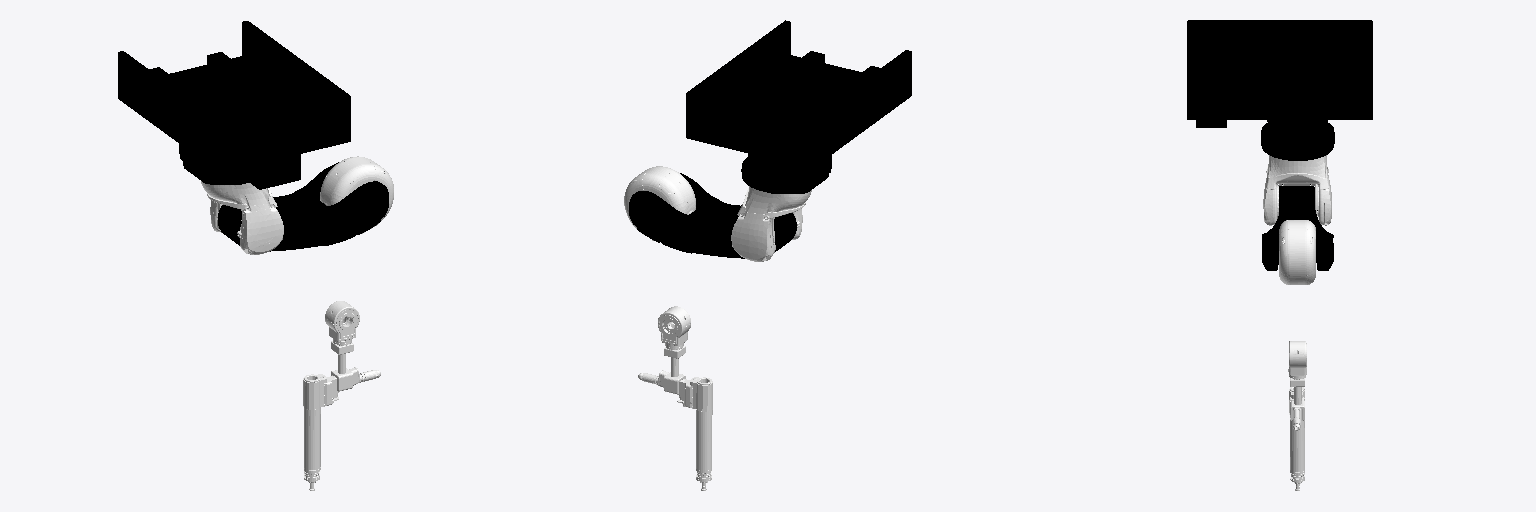
robot.urdf — racer:
<?xml version="1.0" encoding="utf-8"?>
<robot name="racer">
  <link name="world"/>
  <link name="base_link">
    <inertial>
      <origin rpy="0 0 0" xyz="-0.017279            0.00078009           0.14492"/>
      <mass value="6.215"/>
      <inertia ixx="0.05293" ixy="1.9878e-05" ixz="-0.0043586" iyy="0.060873" iyz="5.4713e-06" izz="0.042672"/>
    </inertial>
    <visual>
      <geometry>
        <mesh filename="package://racer_description/mesh/base_link.STL"/>
      </geometry>
      <material name="base_link_material">
        <color rgba="0 0 0 1"/>
      </material>
    </visual>
    <collision>
      <geometry>
        <mesh filename="package://racer_description/mesh/base_link.STL"/>
      </geometry>
    </collision>
  </link>
  <link name="link_1">
    <inertial>
      <origin rpy="0 0 0" xyz=" 0.0375246972830294 -0.0047330722058841   0.119959023209445"/>
      <mass value="5.46814182699"/>
      <inertia ixx="0.0559481276261" ixy="9.66643445884e-05" ixz="-0.00417556460737" iyy="0.0332098630782" iyz="1.37699311238e-05" izz="0.0442971694125"/>
    </inertial>
    <visual>
      <geometry>
        <mesh filename="package://racer_description/mesh/link_1.STL"/>
      </geometry>
      <material name="link_1_material">
        <color rgba="1 1 1 1"/>
      </material>
    </visual>
    <collision>
      <geometry>
        <mesh filename="package://racer_description/mesh/link_1.STL"/>
      </geometry>
    </collision>
  </link>
  <link name="link_2">
    <inertial>
      <origin rpy="0 0 0" xyz="-0.0190824069529527 -0.00775028525116991  0.199983435151925"/>
      <mass value="3.4970386262"/>
      <inertia ixx="0.0677992942709" ixy="0.000380936310688" ixz="-0.000855778184674" iyy="0.0676014641813" iyz="0.0016683422702" izz="0.0164275616509"/>
    </inertial>
    <visual>
      <geometry>
        <mesh filename="package://racer_description/mesh/link_2.STL"/>
      </geometry>
      <material name="link_2_material">
        <color rgba="0 0 0 1"/>
      </material>
    </visual>
    <collision>
      <geometry>
        <mesh filename="package://racer_description/mesh/link_2.STL"/>
      </geometry>
    </collision>
  </link>
  <link name="link_3">
    <inertial>
      <origin rpy="0 0 0" xyz="-0.0174695057689258 -0.00108883931260707 -0.00846478214002855"/>
      <mass value="2.68331708367"/>
      <inertia ixx="0.00685071381057" ixy="0.000112640516974" ixz="0.00186954281903" iyy="0.00785316794832" iyz="-0.000111709680918" izz="0.00558392288231"/>
    </inertial>
    <visual>
      <geometry>
        <mesh filename="package://racer_description/mesh/link_3.STL"/>
      </geometry>
      <material name="link_3_material">
        <color rgba="1 1 1 1"/>
      </material>
    </visual>
    <collision>
      <geometry>
        <mesh filename="package://racer_description/mesh/link_3.STL"/>
      </geometry>
    </collision>
  </link>
  <link name="link_4">
    <inertial>
      <origin rpy="0 0 0" xyz="-0.00227788070042482 -0.00123420975347735 0.0624227170360064"/>
      <mass value="1.62984418881"/>
      <inertia ixx="0.00636789477653" ixy="-2.81769690429e-06" ixz="-7.6286206597e-05" iyy="0.00700400581465" iyz="-3.84855032439e-05" izz="0.00283764341486"/>
    </inertial>
    <visual>
      <geometry>
        <mesh filename="package://racer_description/mesh/link_4.STL"/>
      </geometry>
      <material name="link_4_material">
        <color rgba="0 0 0 1"/>
      </material>
    </visual>
    <collision>
      <geometry>
        <mesh filename="package://racer_description/mesh/link_4.STL"/>
      </geometry>
    </collision>
  </link>
  <link name="link_5">
    <inertial>
      <origin rpy="0 0 0" xyz="8.42234791683474E-06 0.000438242230281476 0.0364200996149726"/>
      <mass value="0.805335362671"/>
      <inertia ixx="0.000450875634719" ixy="-1.62647753018e-07" ixz="5.47682000717e-08" iyy="0.00048212697353" iyz="2.28779867179e-06" izz="0.000531776234546"/>
    </inertial>
    <visual>
      <geometry>
        <mesh filename="package://racer_description/mesh/link_5.STL"/>
      </geometry>
      <material name="link_5_material">
        <color rgba="1 1 1 1"/>
      </material>
    </visual>
    <collision>
      <geometry>
        <mesh filename="package://racer_description/mesh/link_5.STL"/>
      </geometry>
    </collision>
  </link>
  <link name="link_6">
    <inertial>
      <origin rpy="0 0 0" xyz="5.64165774402925E-05 -4.33361315668251E-07 0.00365583421206228"/>
      <mass value="0.073"/>
      <inertia ixx="6.94455842253e-06" ixy="-3.96352989851e-10" ixz="-3.15927343591e-08" iyy="6.89301150818e-06" iyz="3.03515042446e-10" izz="9.670787784e-06"/>
    </inertial>
    <visual>
      <geometry>
        <mesh filename="package://racer_description/mesh/link_6.STL"/>
      </geometry>
      <material name="link_6_material">
        <color rgba="0 0 0 1"/>
      </material>
    </visual>
    <collision>
      <geometry>
        <mesh filename="package://racer_description/mesh/link_6.STL"/>
      </geometry>
    </collision>
  </link>
  <link name="gripper">
    <visual>
      <geometry>
        <mesh filename="package://racer_description/mesh/gripper_v2.STL"/>
      </geometry>
      <material name="gripper_material">
        <color rgba="1 1 1 1"/>
      </material>
    </visual>
    <collision>
      <geometry>
        <mesh filename="package://racer_description/mesh/gripper_v2.STL"/>
      </geometry>
    </collision>
  </link>
  <joint name="fixed" type="prismatic">
    <origin rpy="0.0 3.1415926536 3.1415926536" xyz="0 0 2.37"/>
    <parent link="world"/>
    <child link="base_link"/>
    <axis xyz="0 -1 0"/>
    <limit effort="10000.0" lower="-1.7" upper="1.7" velocity="6.98131700798"/>
  </joint>
  <joint name="head_swivel" type="revolute">
    <origin rpy="0 0 0" xyz="0.0 0.0 0.1895"/>
    <parent link="base_link"/>
    <child link="link_1"/>
    <axis xyz="0  0  1"/>
    <limit effort="10000.0" lower="-2.96705972839" upper="2.96705972839" velocity="6.98131700798"/>
  </joint>
  <joint name="joint_2" type="revolute">
    <origin rpy="0.0 1.57 0.0" xyz="0.05 0.0 0.1755"/>
    <parent link="link_1"/>
    <child link="link_2"/>
    <axis xyz="0 -1  0"/>
    <limit effort="10000.0" lower="-1.4835298642" upper="2.35619449019" velocity="6.28318530718"/>
  </joint>
  <joint name="joint_3" type="revolute">
    <origin rpy="0.0 -1.57 0.0" xyz="0.0 0.0 0.37"/>
    <parent link="link_2"/>
    <child link="link_3"/>
    <axis xyz="0 -1  0"/>
    <limit effort="10000.0" lower="-2.61799387799" upper="1.57079632679" velocity="6.98131700798"/>
  </joint>
  <joint name="joint_4" type="revolute">
    <origin rpy="0 0 0" xyz="-0.049998 0 0.121"/>
    <parent link="link_3"/>
    <child link="link_4"/>
    <axis xyz="0  0 -1"/>
    <limit effort="100.0" lower="-3.49065850399" upper="3.49065850399" velocity="8.72664625997"/>
  </joint>
  <joint name="joint_5" type="revolute">
    <origin rpy="0 0 0" xyz="0 0 0.26494"/>
    <parent link="link_4"/>
    <child link="link_5"/>
    <axis xyz="0 -1  0"/>
    <limit effort="10000.0" lower="-2.18166156499" upper="2.18166156499" velocity="8.72664625997"/>
  </joint>
  <joint name="joint_6" type="revolute">
    <origin rpy="0 0 0" xyz="0 0 0.0665"/>
    <parent link="link_5"/>
    <child link="link_6"/>
    <axis xyz="0  0 -1"/>
    <limit effort="100.0" lower="-47.1238898038" upper="47.1238898038" velocity="13.962634016"/>
  </joint>
  <joint name="gripper_fixed" type="fixed">
    <parent link="link_6"/>
    <child link="gripper"/>
    <origin rpy="3.1415926536 0.0 0.0" xyz="-0.101962 0.0 0.46533"/>
  </joint>

  <transmission name="$fixed_trans">
    <type>transmission_interface/SimpleTransmission</type>
    <joint name="fixed">
      <hardwareInterface>hardware_interface/PositionJointInterface</hardwareInterface>
    </joint>
    <actuator name="fixed_motor">
      <mechanicalReduction>1</mechanicalReduction>
    </actuator>
  </transmission>

  <transmission name="head_swivel_trans">
    <type>transmission_interface/SimpleTransmission</type>
    <joint name="head_swivel">
      <hardwareInterface>hardware_interface/PositionJointInterface</hardwareInterface>
    </joint>
    <actuator name="head_swivel_motor">
      <mechanicalReduction>1</mechanicalReduction>
    </actuator>
  </transmission>

  <transmission name="joint_1_trans">
    <type>transmission_interface/SimpleTransmission</type>
    <joint name="joint_1">
      <hardwareInterface>hardware_interface/PositionJointInterface</hardwareInterface>
    </joint>
    <actuator name="joint_1_motor">
      <mechanicalReduction>1</mechanicalReduction>
    </actuator>
  </transmission>

  <transmission name="joint_2_trans">
    <type>transmission_interface/SimpleTransmission</type>
    <joint name="joint_2">
      <hardwareInterface>hardware_interface/PositionJointInterface</hardwareInterface>
    </joint>
    <actuator name="joint_2_motor">
      <mechanicalReduction>1</mechanicalReduction>
    </actuator>
  </transmission>

  <transmission name="joint_3_trans">
    <type>transmission_interface/SimpleTransmission</type>
    <joint name="joint_3">
      <hardwareInterface>hardware_interface/PositionJointInterface</hardwareInterface>
    </joint>
    <actuator name="joint_3_motor">
      <mechanicalReduction>1</mechanicalReduction>
    </actuator>
  </transmission>

  <transmission name="joint_4_trans">
    <type>transmission_interface/SimpleTransmission</type>
    <joint name="joint_4">
      <hardwareInterface>hardware_interface/PositionJointInterface</hardwareInterface>
    </joint>
    <actuator name="joint_4_motor">
      <mechanicalReduction>1</mechanicalReduction>
    </actuator>
  </transmission>

  <transmission name="joint_5_trans">
    <type>transmission_interface/SimpleTransmission</type>
    <joint name="joint_5">
      <hardwareInterface>hardware_interface/PositionJointInterface</hardwareInterface>
    </joint>
    <actuator name="joint_5_motor">
      <mechanicalReduction>1</mechanicalReduction>
    </actuator>
  </transmission>

  <transmission name="joint_6_trans">
    <type>transmission_interface/SimpleTransmission</type>
    <joint name="joint_6">
      <hardwareInterface>hardware_interface/PositionJointInterface</hardwareInterface>
    </joint>
    <actuator name="joint_6_motor">
      <mechanicalReduction>1</mechanicalReduction>
    </actuator>
  </transmission>
</robot>

--- Facts derived from the render (not from the file) ---
3 views of the same robot in one strip: view 1: azimuth 30°, elevation 25°; view 2: azimuth 150°, elevation 25°; view 3: azimuth 270°, elevation 25° (orthographic).
Robot: racer — 9 links, 8 joints (6 revolute, 1 prismatic, 1 fixed); root link world; default pose: every joint at zero.
Visible links, largest first — view 1: base_link, link_2, link_1, gripper, link_3, link_5; view 2: base_link, link_2, link_1, gripper, link_3, link_5; view 3: base_link, link_1, link_2, link_3, gripper, link_5.
Boxes of the visible links, bbox=[...] form: base_link: bbox=[118, 21, 350, 189]; link_2: bbox=[218, 162, 388, 251]; link_1: bbox=[201, 181, 283, 254]; gripper: bbox=[303, 341, 380, 490]; link_3: bbox=[320, 156, 393, 233]; link_5: bbox=[325, 301, 359, 345]; base_link: bbox=[686, 20, 911, 193]; link_2: bbox=[629, 173, 796, 258]; link_1: bbox=[731, 186, 811, 261]; gripper: bbox=[638, 346, 712, 490]; link_3: bbox=[624, 166, 695, 240]; link_5: bbox=[658, 306, 690, 349]; base_link: bbox=[1187, 20, 1372, 160]; link_1: bbox=[1263, 155, 1331, 225]; link_2: bbox=[1262, 184, 1333, 270]; link_3: bbox=[1279, 220, 1315, 284]; gripper: bbox=[1289, 378, 1304, 490]; link_5: bbox=[1288, 341, 1306, 379].
Bounding box of the posed robot: 0.774 × 0.6 × 1.43 m (x, y, z).
Meshes: 8 distinct files referenced, 7 mesh visuals loaded (7 binary STL); not drawn: 1 (reference not matched to a file when rendering).